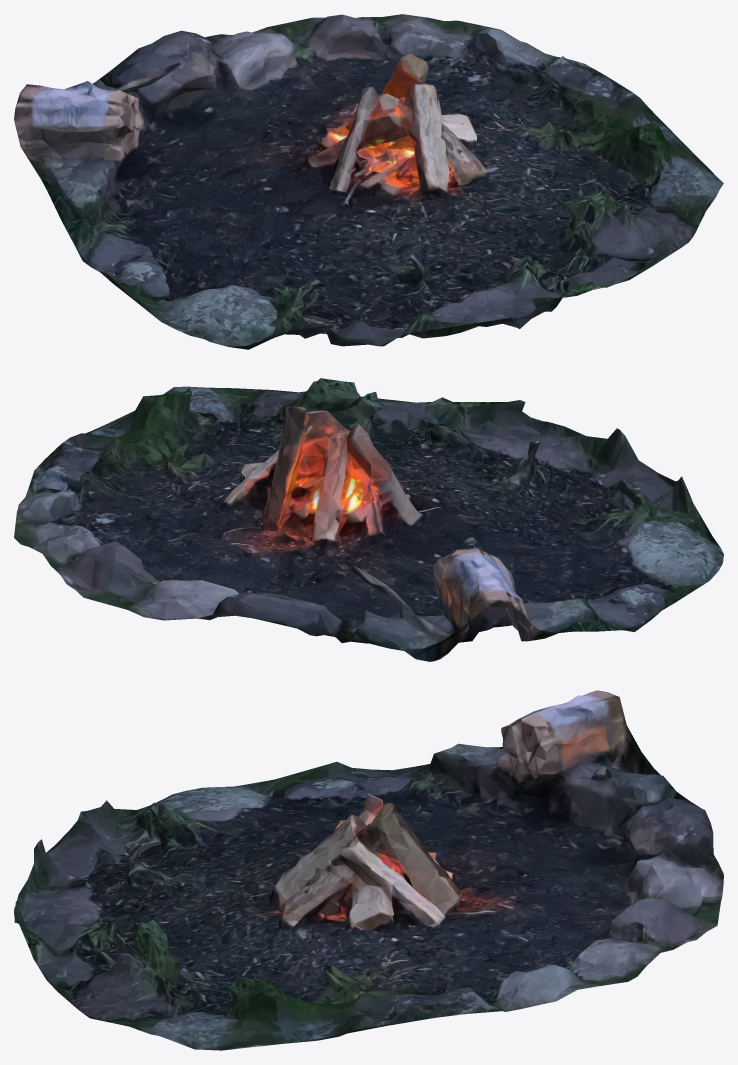
File: foguera.obj
3 views of the same model, one above another, from view 1: azimuth 30°, elevation 25°; view 2: azimuth 150°, elevation 25°; view 3: azimuth 270°, elevation 25° (orthographic). The views are drawn at different scales.
Parts seen in each view (by area): view 1: fireclean; view 2: fireclean; view 3: fireclean.
Boxes of the visible parts, x1,y1,x2,y2 form: fireclean: (14,14,723,349); fireclean: (14,378,723,661); fireclean: (14,690,723,1050).
Size of the model in its own units: 1.44 by 0.3616 by 1.45.
1 material, 1 textured.
